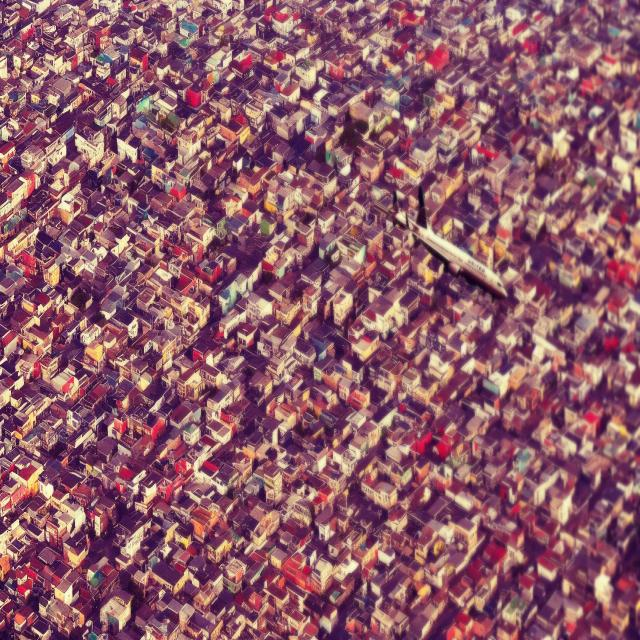airplane: (393, 185, 509, 299)
